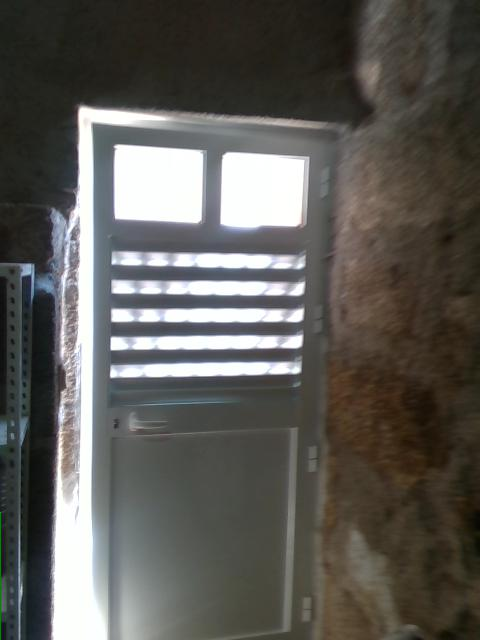door: (90, 123, 336, 639)
